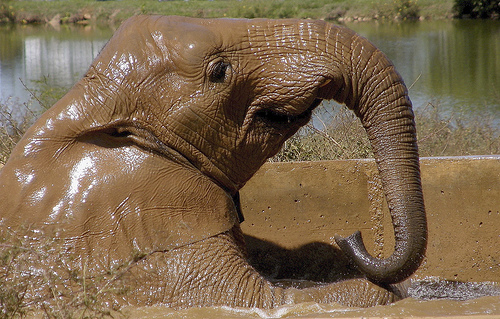elephant: (3, 9, 438, 307)
